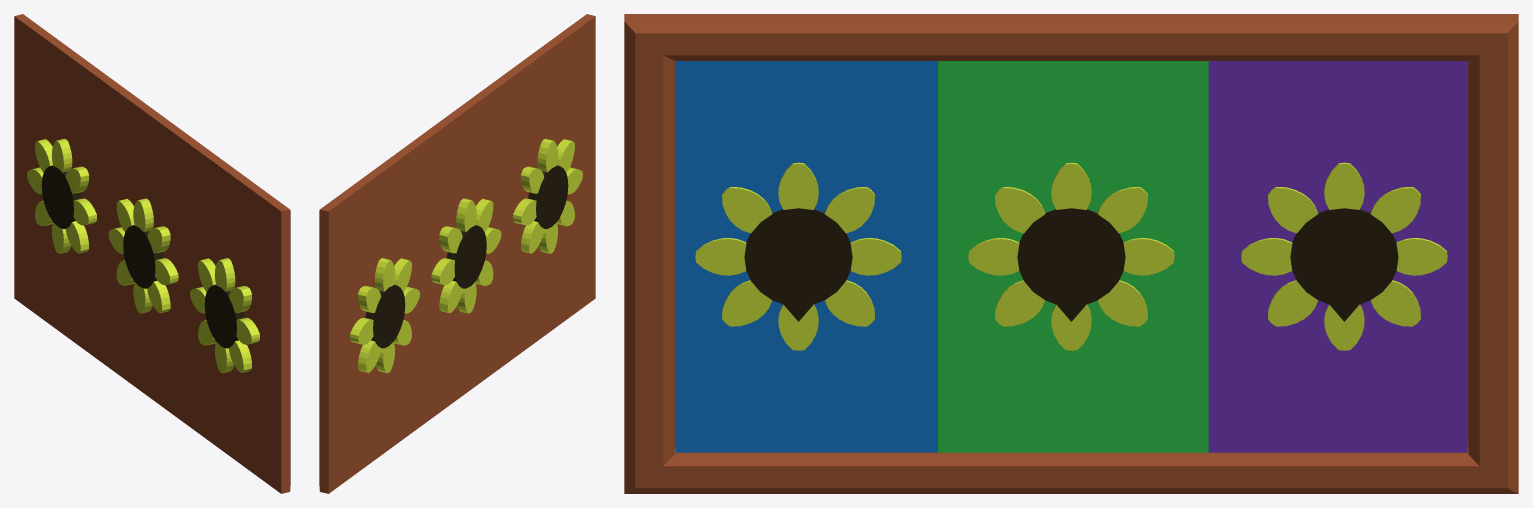
Rendered from sunflower_frame.glb.
3 renders of one model, left to right at view 1: azimuth 30°, elevation 25°; view 2: azimuth 150°, elevation 25°; view 3: azimuth 270°, elevation 25°, orthographic. The views are drawn at different scales.
Visible parts, largest first — view 1: Plane.037, Cylinder.017, Cylinder.018, Cylinder.016; view 2: Plane.037, Cylinder.017, Cylinder.016, Cylinder.018; view 3: Plane.038, Plane.037, Cylinder.017, Cylinder.016, Cylinder.018.
Boxes of the visible parts, x1=… form: Plane.037: x1=14, y1=14, x2=290, y2=493; Cylinder.017: x1=108, y1=198, x2=178, y2=313; Cylinder.018: x1=27, y1=138, x2=96, y2=253; Cylinder.016: x1=190, y1=258, x2=259, y2=373; Plane.037: x1=319, y1=14, x2=595, y2=493; Cylinder.017: x1=431, y1=198, x2=501, y2=313; Cylinder.016: x1=513, y1=138, x2=582, y2=253; Cylinder.018: x1=350, y1=258, x2=419, y2=373; Plane.038: x1=675, y1=61, x2=1467, y2=452; Plane.037: x1=624, y1=14, x2=1518, y2=493; Cylinder.017: x1=968, y1=162, x2=1174, y2=350; Cylinder.016: x1=695, y1=162, x2=901, y2=350; Cylinder.018: x1=1241, y1=162, x2=1447, y2=350.
Bounding box in the file's own units: 0.15 × 1.91 × 3.28.
